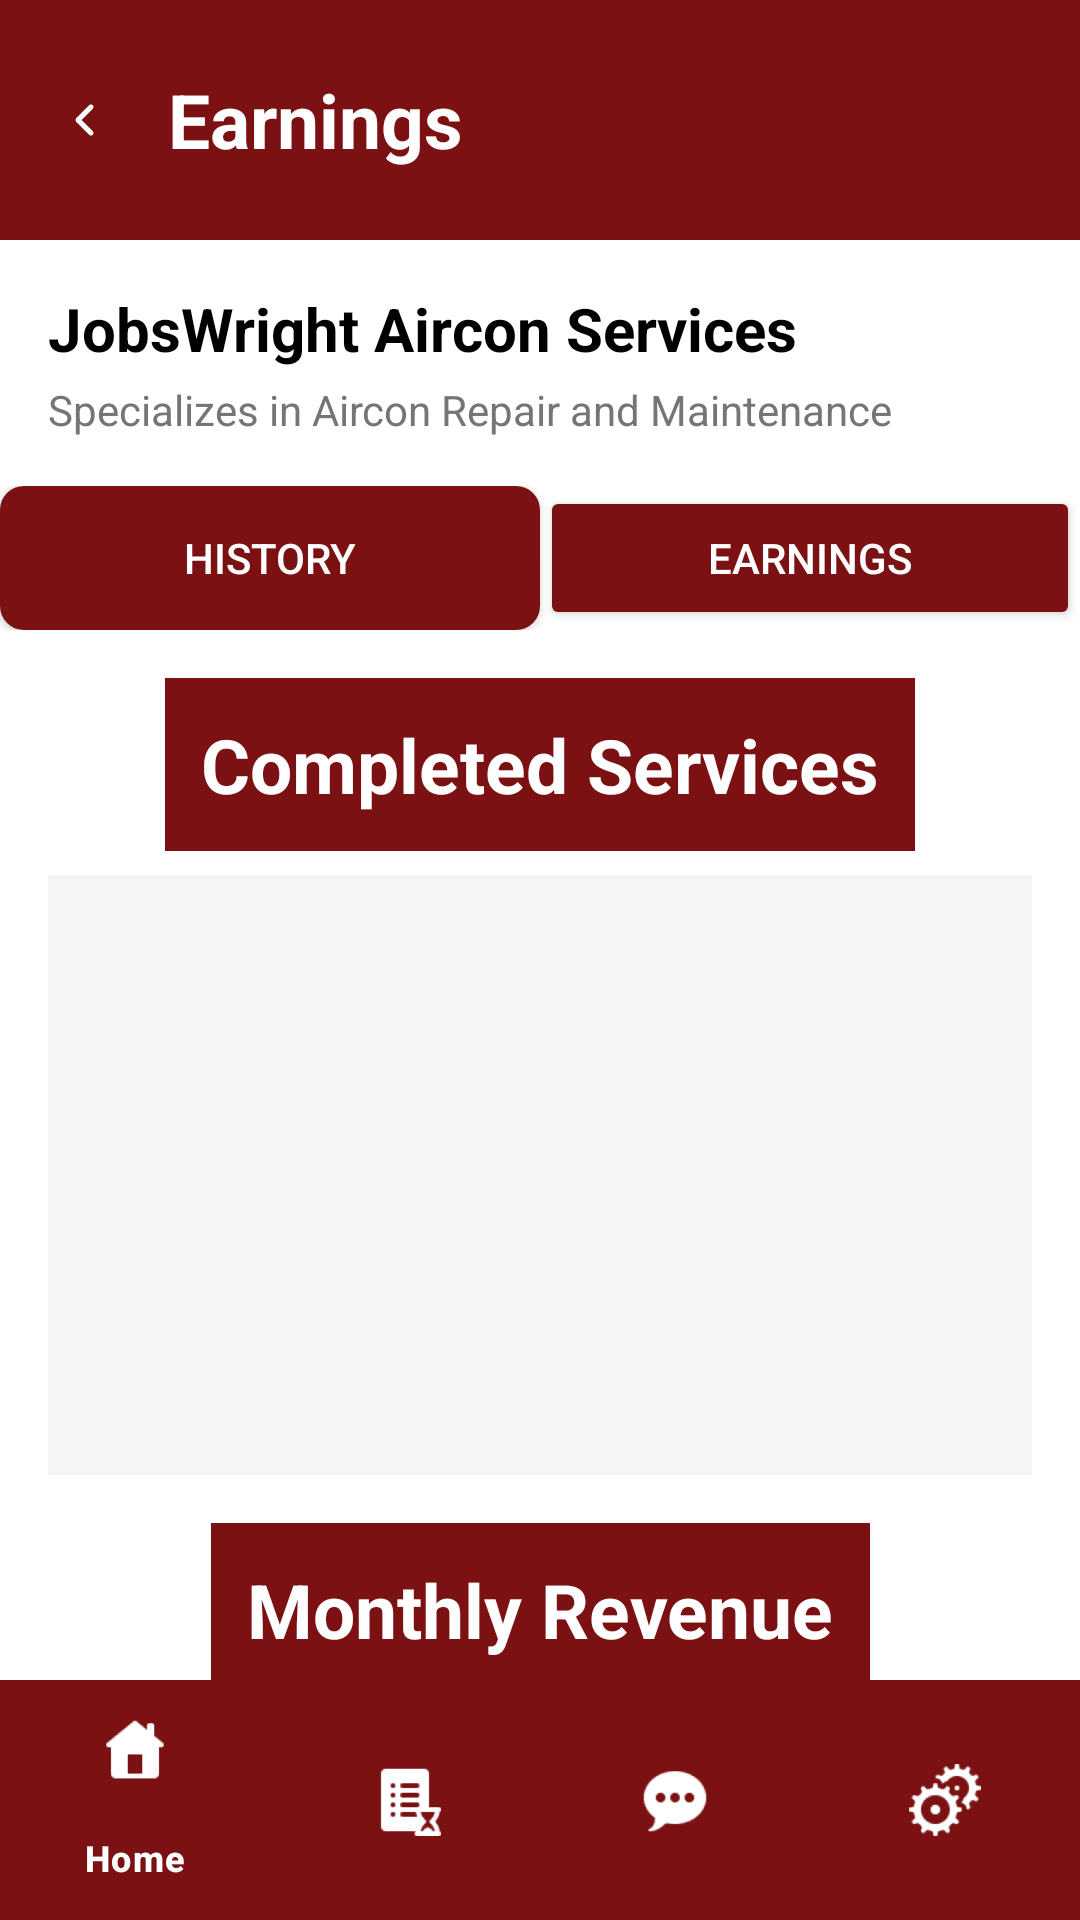

Icons on this 1080w x 1920h Android screen, each with the point to tap as (x=x, y=y):
Back: (x=84, y=120)
